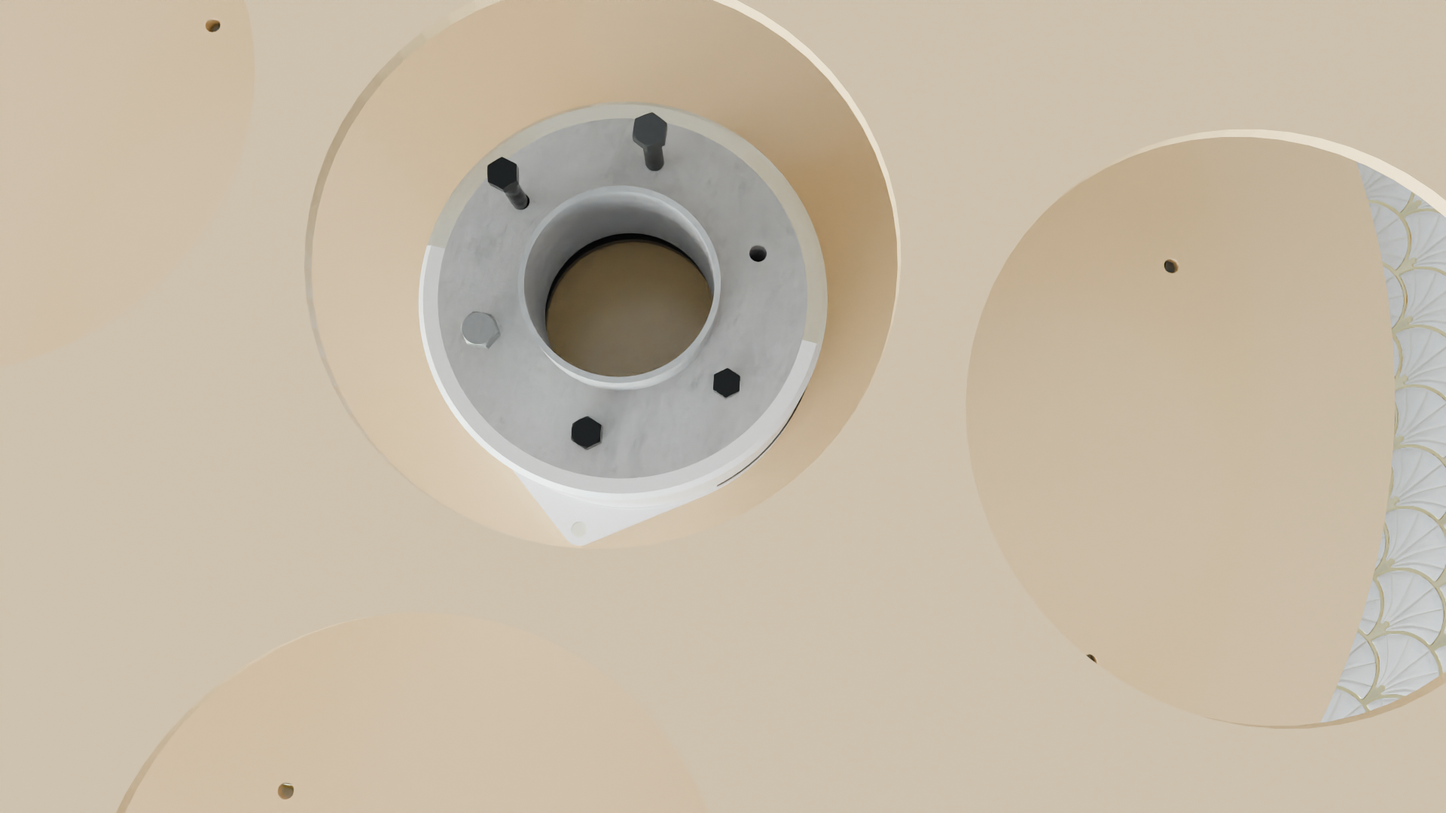bolt: (460, 312, 498, 346), (632, 112, 667, 148), (571, 416, 602, 449), (487, 157, 517, 189), (713, 368, 740, 398)
